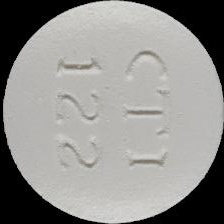63629-2782: (0, 0, 224, 224)
